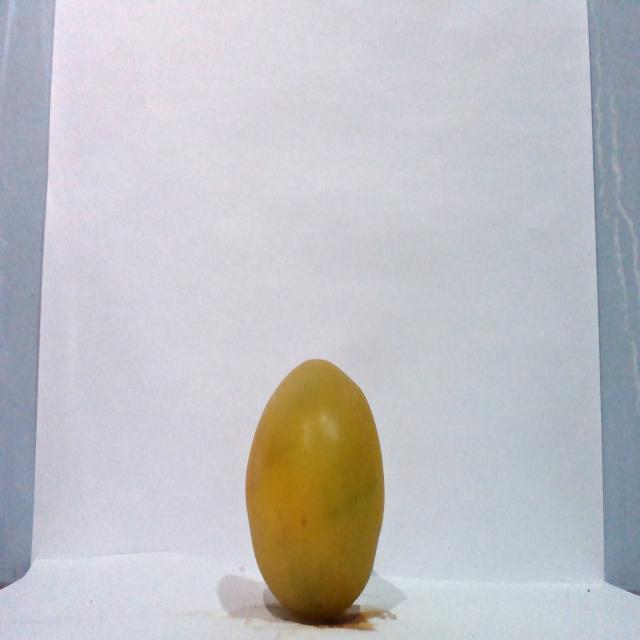Green: (243, 357, 386, 621)
